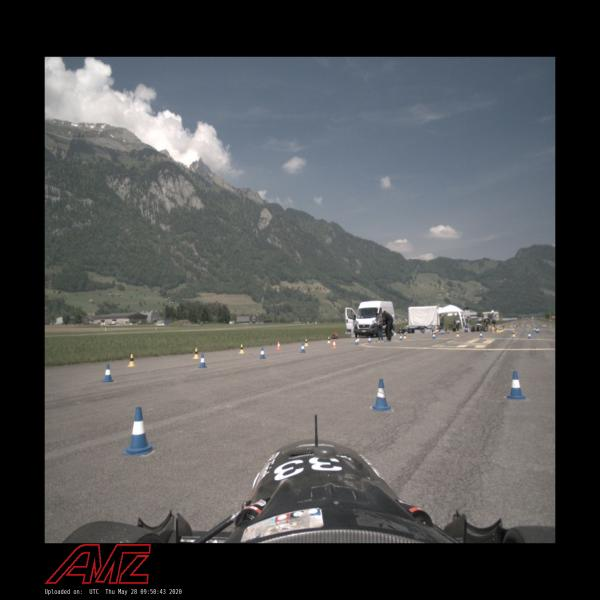blue_cone: (121, 407, 156, 456), (371, 379, 392, 411), (507, 371, 526, 400), (102, 364, 113, 383), (198, 354, 207, 368), (259, 347, 266, 360), (300, 342, 306, 353), (354, 337, 359, 345), (367, 336, 372, 343), (527, 332, 532, 339), (432, 332, 436, 339), (480, 331, 484, 338), (399, 334, 403, 340), (536, 328, 540, 333), (535, 327, 538, 332), (534, 327, 536, 331)
orange_cone: (276, 341, 282, 350), (332, 339, 336, 349)
yellow_cone: (127, 354, 136, 367), (193, 348, 200, 359), (239, 345, 244, 354), (304, 338, 308, 346), (327, 336, 331, 344), (512, 331, 516, 337), (357, 334, 360, 341), (456, 331, 459, 337), (496, 329, 499, 333), (404, 333, 406, 338), (501, 327, 503, 332), (499, 327, 501, 332), (492, 324, 494, 328)
